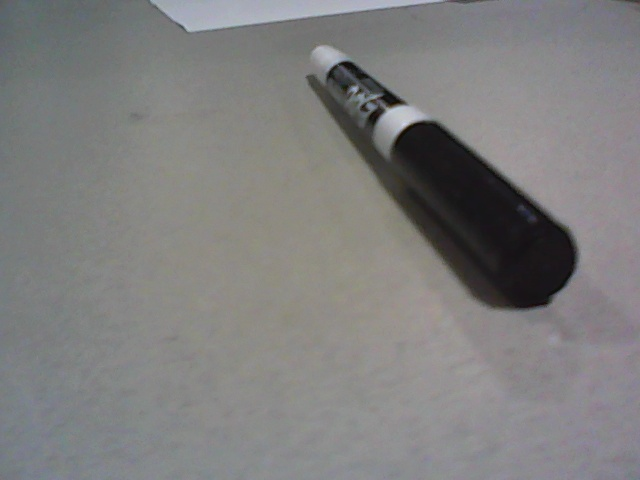marker: (310, 45, 578, 305)
